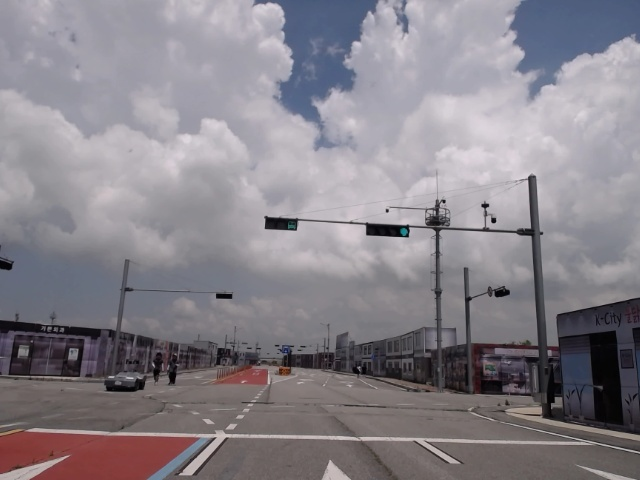straight_green_4: (367, 224, 410, 237)
